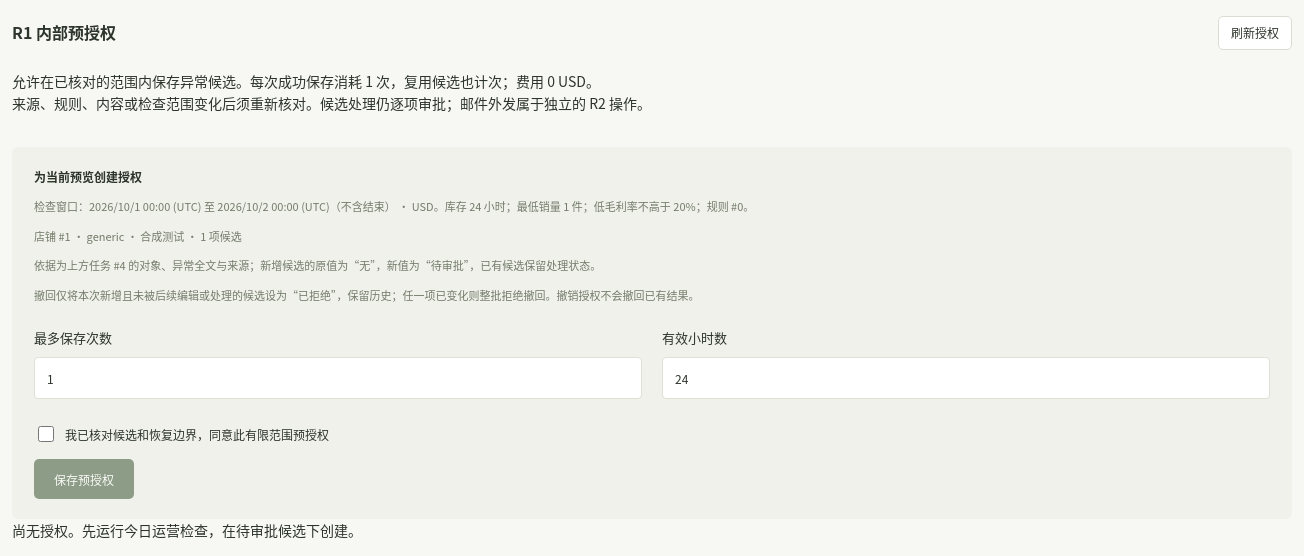
Scenario: requires renewed consent when limits change and blocks stale creation
Expected: the button "保存预授权" is disabled, [34, 459, 134, 499]
Click the checkbox labelled "我已核对候选和恢复边界，同意此有限范围预授权": (46, 434) [38, 426, 54, 442]
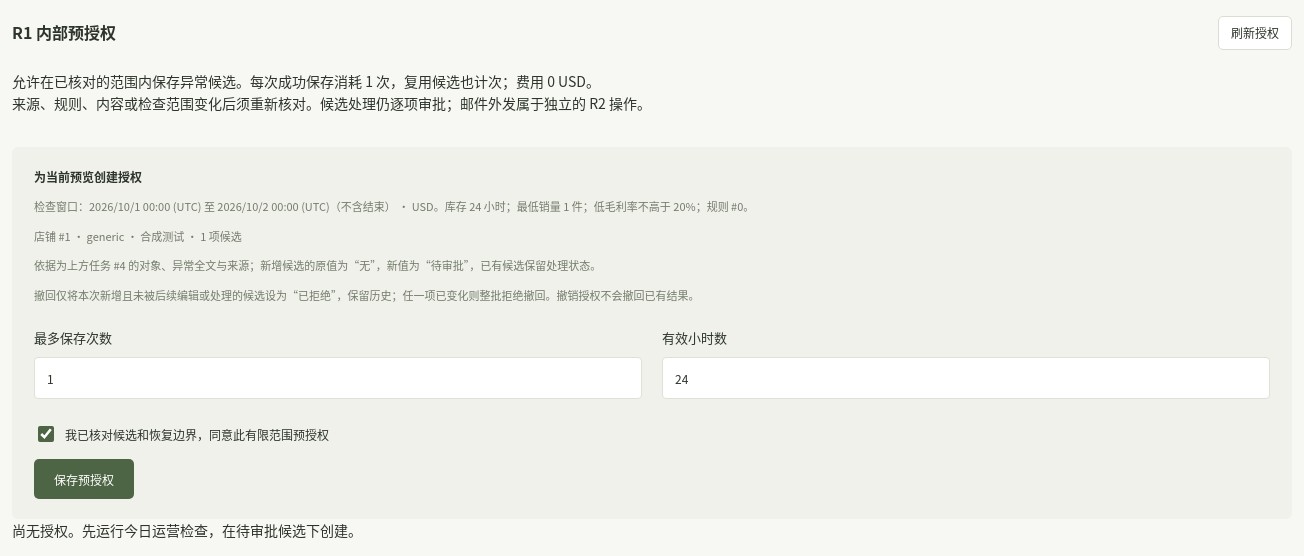
Now the button "保存预授权" is enabled, box [34, 459, 134, 499]
Replace the text in the number field labelled "最多保存次数" with "3": (338, 378) [34, 357, 642, 399]
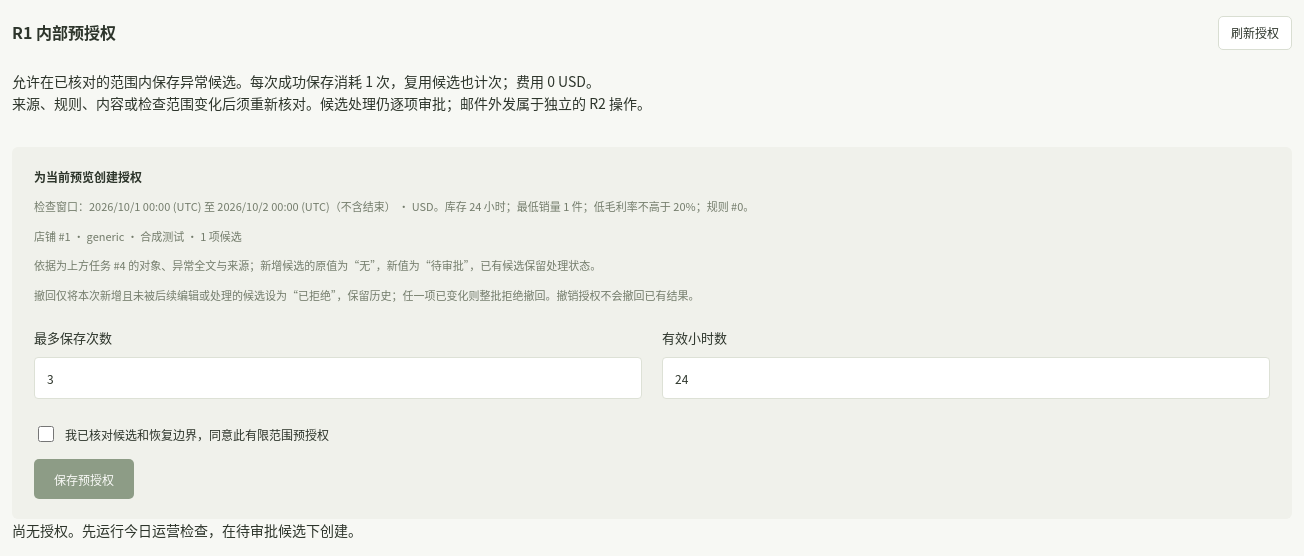
Now the button "保存预授权" is disabled, box [34, 459, 134, 499]
